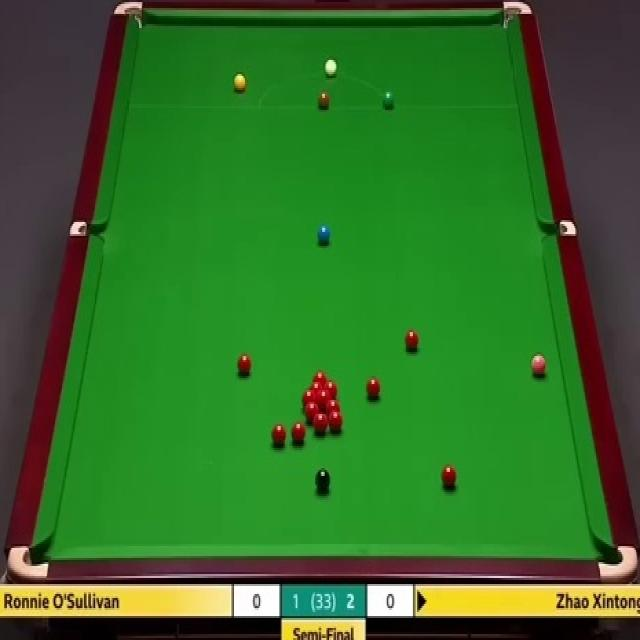black-ball: (315, 468, 331, 492)
blue-ball: (316, 223, 332, 246)
brown-ball: (318, 91, 330, 110)
green-ball: (382, 90, 394, 109)
pink-ball: (530, 352, 548, 380)
red-ball: (441, 464, 458, 490), (404, 330, 421, 355), (236, 353, 252, 377), (313, 411, 329, 434), (328, 409, 343, 433), (365, 377, 380, 401), (273, 421, 289, 443), (291, 423, 305, 446), (304, 402, 319, 421), (322, 381, 338, 397), (324, 399, 340, 413), (316, 390, 332, 404), (302, 389, 316, 402), (312, 370, 328, 381), (309, 381, 325, 390)
white-ball: (323, 56, 337, 79)
yellow-ball: (233, 72, 246, 95)
